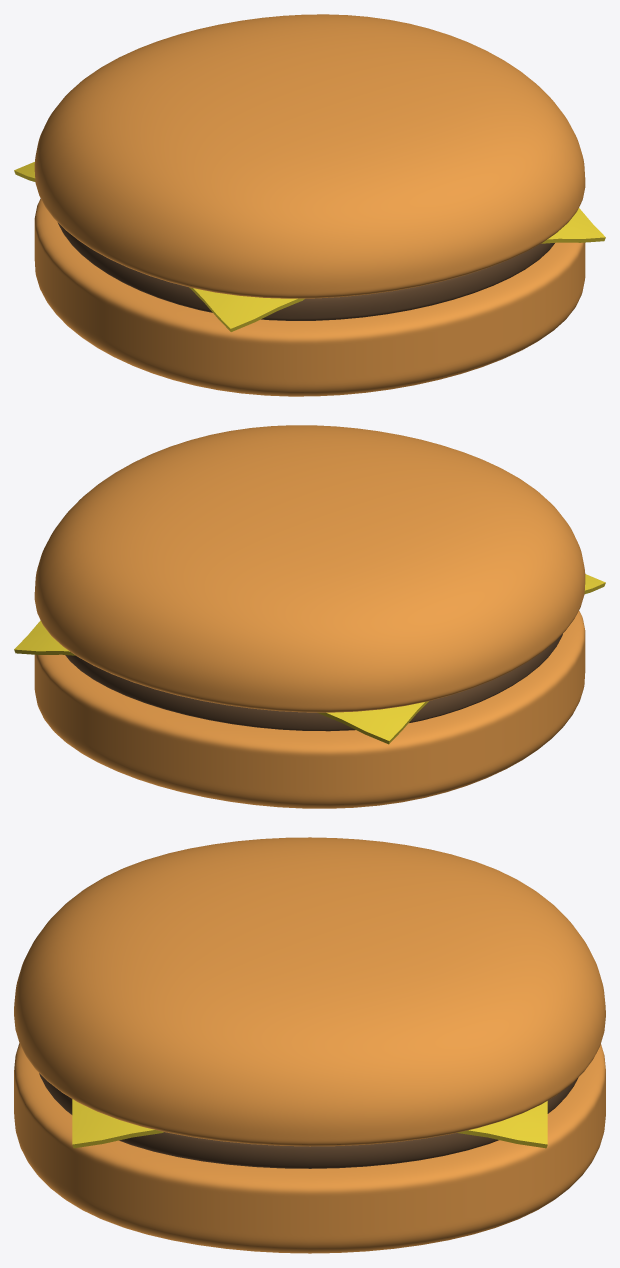
The model's file is burger.glb.
3 renders of one model, top to bottom at view 1: azimuth 30°, elevation 25°; view 2: azimuth 150°, elevation 25°; view 3: azimuth 270°, elevation 25°, orthographic. The views are drawn at different scales.
Parts seen in each view (by area): view 1: Cube.002, Cube, Cube.001, Plane; view 2: Cube.002, Cube, Cube.001, Plane; view 3: Cube.002, Cube, Cube.001, Plane.
Part boxes in pixels (box(x1,y1,x2,y2)): Cube.002: box(34, 14, 585, 298); Cube: box(34, 198, 585, 396); Cube.001: box(57, 222, 554, 320); Plane: box(14, 162, 605, 331); Cube.002: box(34, 425, 585, 712); Cube: box(34, 610, 585, 808); Cube.001: box(65, 634, 562, 731); Plane: box(14, 574, 605, 744); Cube.002: box(14, 837, 605, 1146); Cube: box(14, 1043, 605, 1253); Cube.001: box(39, 1073, 578, 1168); Plane: box(72, 1099, 547, 1148).
Size of the model in its own units: 9.18 by 4.19 by 9.18.
